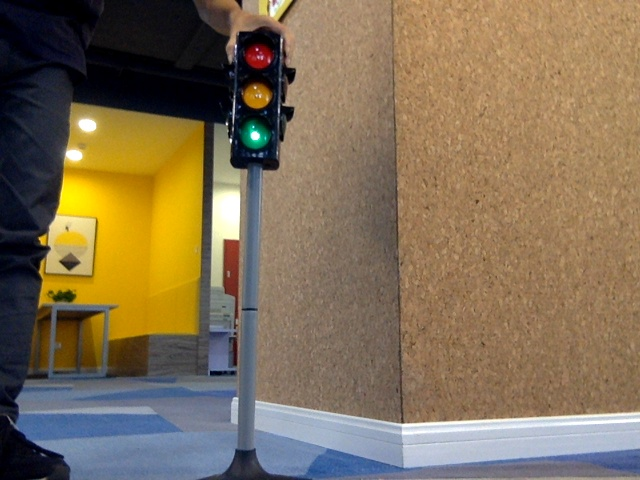green: (234, 39, 274, 159)
